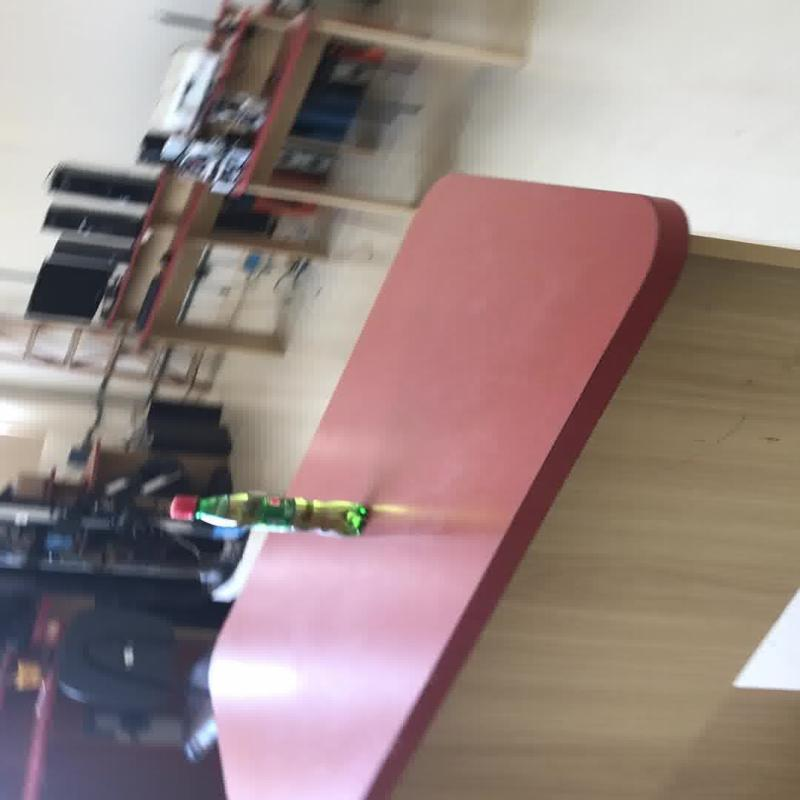guarana: (166, 490, 369, 538)
